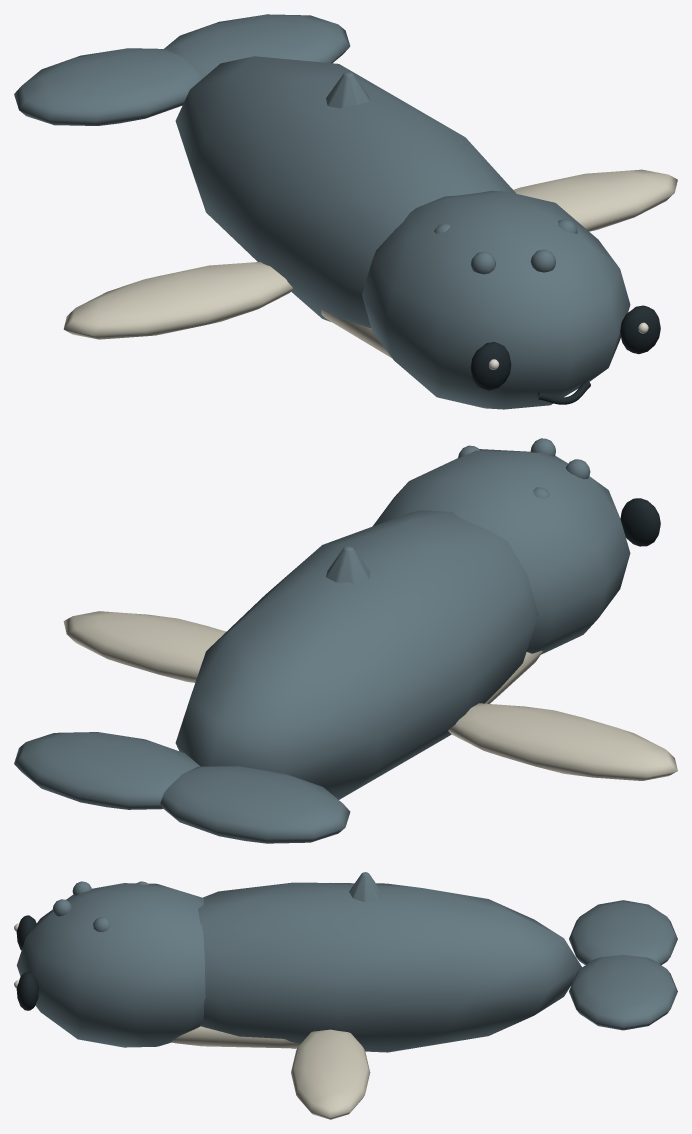
Rendered from org_humpback.glb.
3 renders of one model, top to bottom at view 1: azimuth 30°, elevation 25°; view 2: azimuth 150°, elevation 25°; view 3: azimuth 270°, elevation 25°, orthographic. The views are drawn at different scales.
Visible parts, largest first — view 1: Body, Head, Tail, Fin_R, Fin_L, Eye_L, Eye_R; view 2: Body, Head, Tail, Fin_R, Fin_L, Eye_R; view 3: Body, Head, Tail, Fin_L, Eye_L, Eye_R.
Boxes of the visible parts, x1,y1,x2,y2 form: Body: (175,56,515,357); Head: (362,190,630,409); Tail: (14,14,350,125); Fin_R: (63,262,292,339); Fin_L: (513,169,677,231); Eye_L: (620,305,660,354); Eye_R: (470,342,511,390); Body: (175,510,542,799); Head: (372,438,630,654); Tail: (14,732,350,843); Fin_R: (448,703,677,780); Fin_L: (63,611,225,682); Eye_R: (620,498,660,546); Body: (171,872,581,1052); Head: (16,881,205,1047); Tail: (569,900,677,1030); Fin_L: (291,1029,370,1119); Eye_L: (14,972,39,1010); Eye_R: (14,915,36,950).
Bounding box in the file's own units: 2.9 × 0.994 × 3.5.
